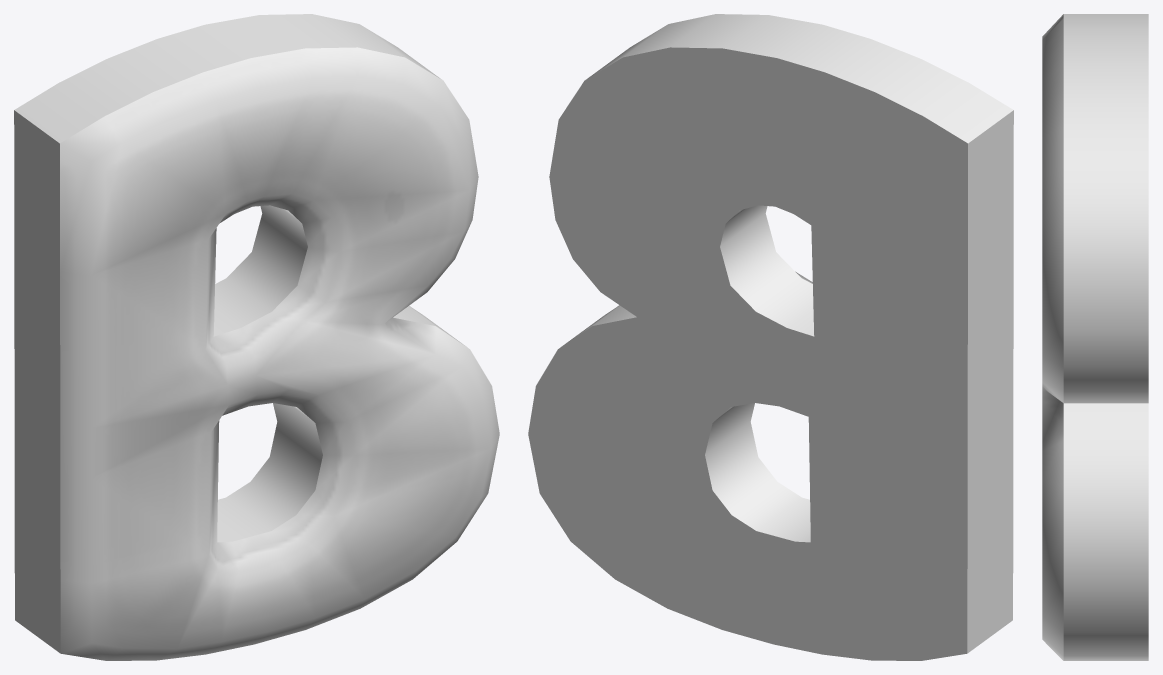
File: LettersStylized01_B.FBX
3 views of the same model, side by side, from view 1: azimuth 30°, elevation 25°; view 2: azimuth 150°, elevation 25°; view 3: azimuth 270°, elevation 25° (orthographic). The views are drawn at different scales.
Visible parts, largest first — view 1: LettersStylized01_B; view 2: LettersStylized01_B; view 3: LettersStylized01_B.
Part boxes in pixels (x1,y1,x2,y2): LettersStylized01_B: (14,14,499,660); LettersStylized01_B: (528,14,1013,660); LettersStylized01_B: (1042,14,1148,660).
Size of what is drawn, in the model's own units: 0.3778 by 0.4818 by 0.085.
